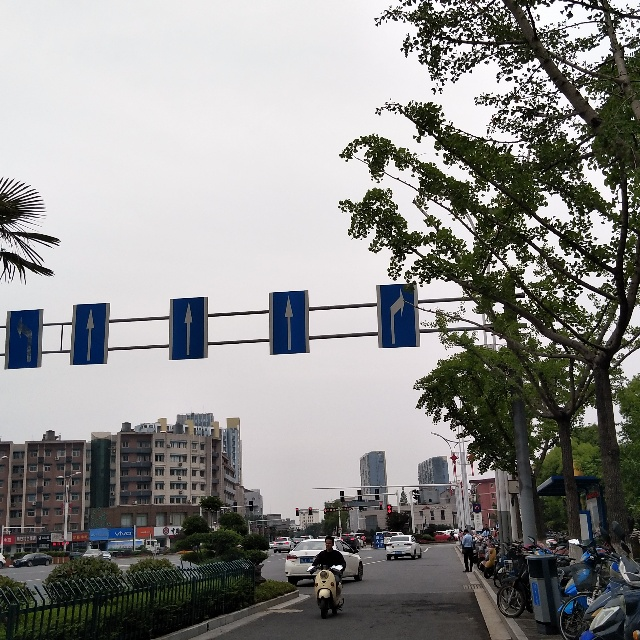left: (3, 309, 42, 372)
right: (375, 281, 423, 353)
straight: (267, 290, 313, 357), (72, 303, 110, 368), (169, 297, 209, 358)
